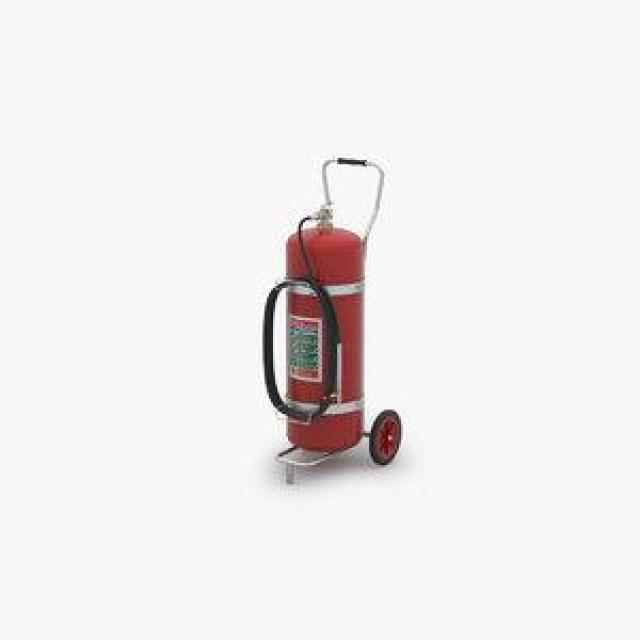fire_extinguisher: (256, 195, 367, 464)
